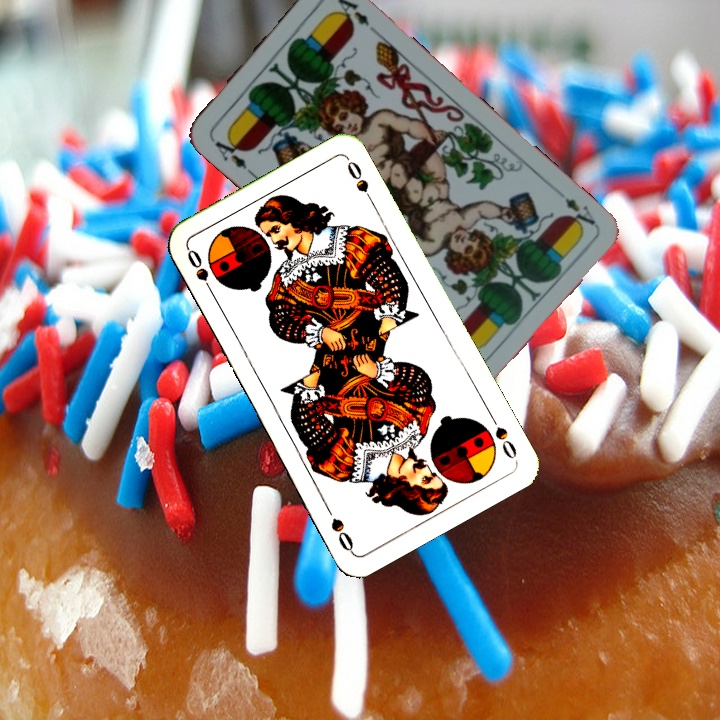EA: (210, 132, 256, 178), (561, 194, 598, 233)
SO: (183, 245, 218, 300), (485, 409, 520, 462)
